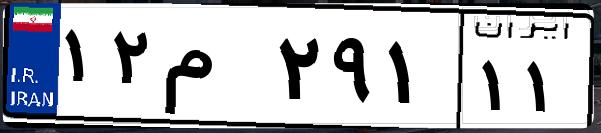1: (385, 28, 445, 110), (57, 26, 110, 100), (475, 38, 525, 113), (525, 38, 570, 115)
2: (270, 28, 330, 110), (110, 28, 158, 98)
9: (330, 28, 385, 110)
م: (158, 20, 270, 120)
